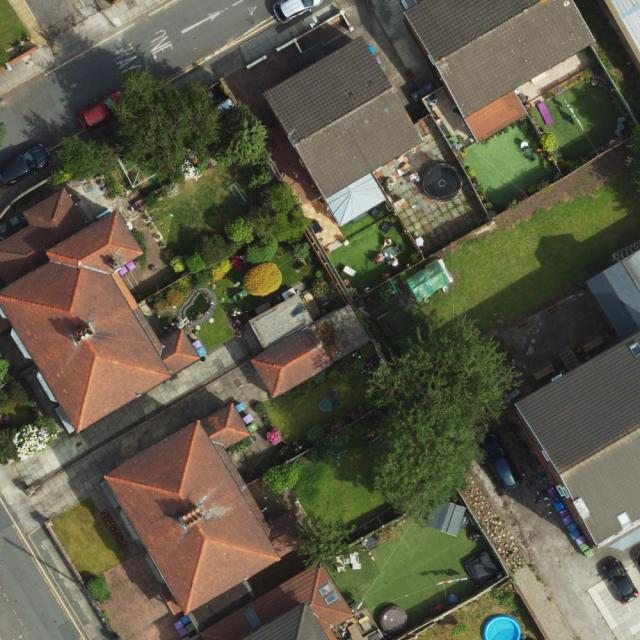roof: (0, 189, 203, 430), (109, 401, 308, 615), (263, 34, 422, 228), (519, 329, 640, 555), (409, 0, 596, 146), (191, 563, 356, 640)
skylight: (611, 510, 635, 530), (243, 608, 265, 629), (316, 581, 336, 599), (325, 591, 342, 605)
